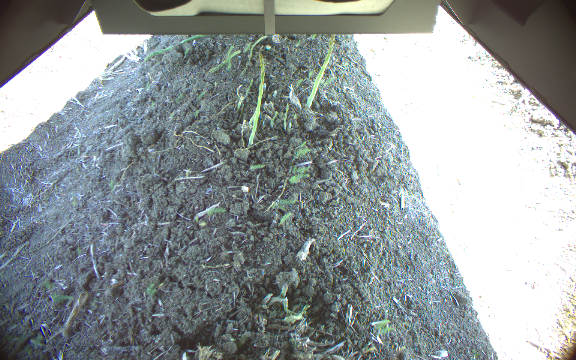aspa: (304, 34, 339, 109), (247, 51, 267, 148)
